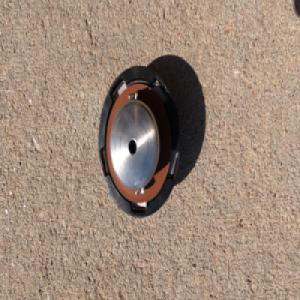FuelCap: (96, 63, 183, 219)
